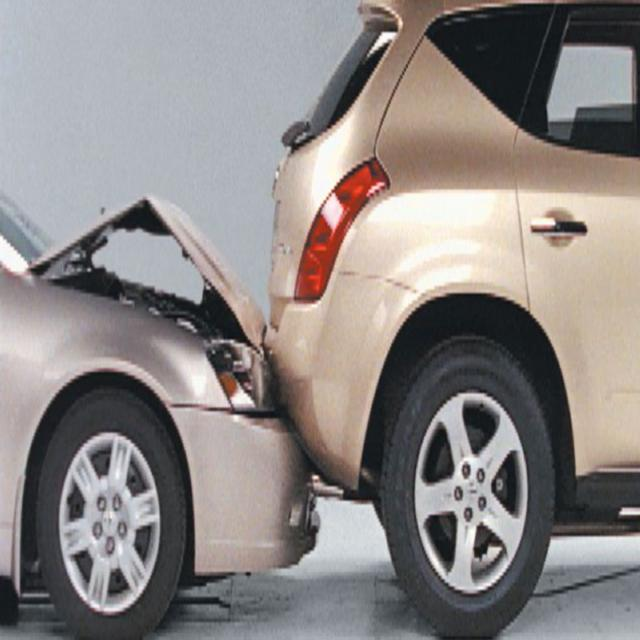misalignment: (29, 196, 279, 410)
